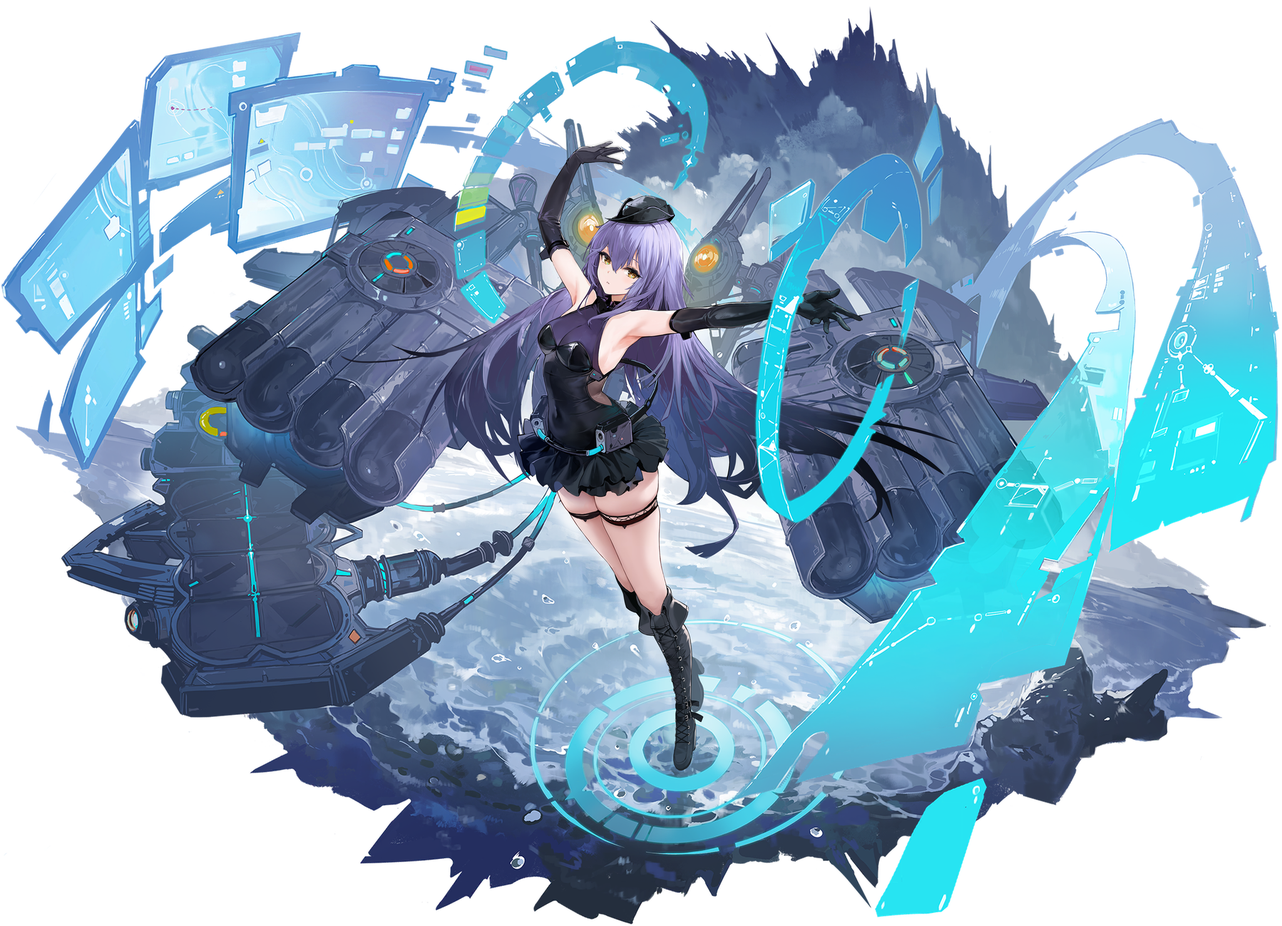person: (432, 165, 779, 806)
